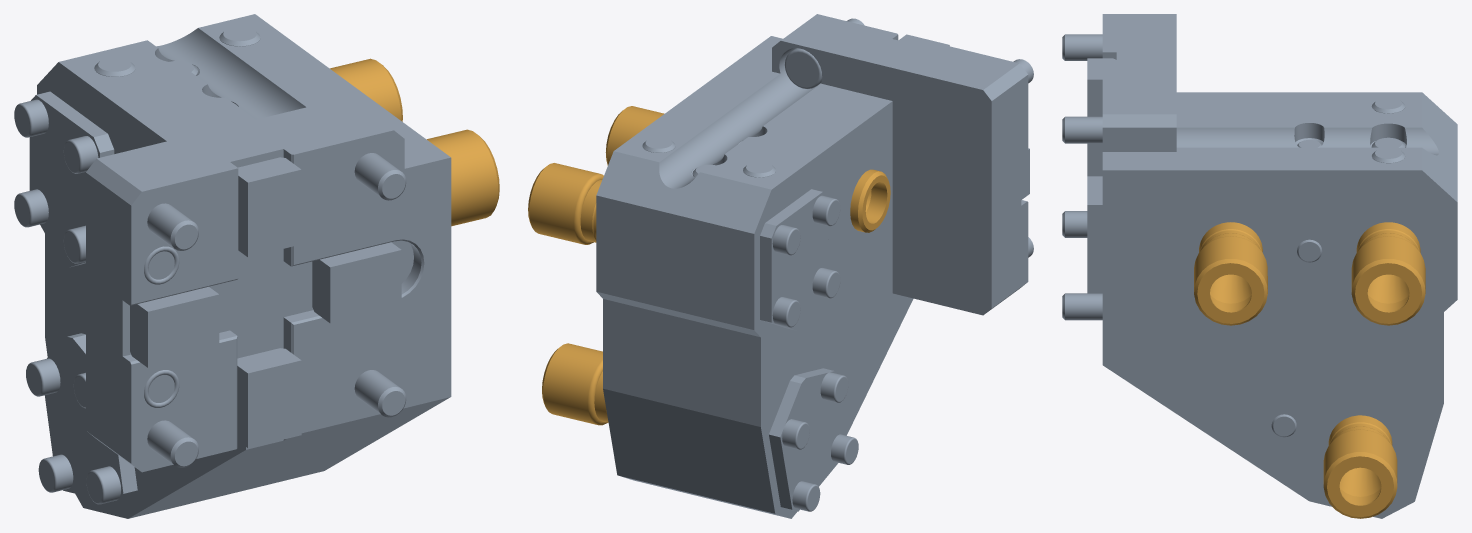
The model's file is 3X Spot-Drill-Tap-parts.obj.
The picture shows the model from 3 angles, left to right: view 1: azimuth 30°, elevation 25°; view 2: azimuth 150°, elevation 25°; view 3: azimuth 270°, elevation 25°; orthographic projection. The views are drawn at different scales.
Parts seen in each view (by area): view 1: Body1, Body1:3, Body1:1; view 2: Body1, Body1:1, Body1:2, Body1:3; view 3: Body1, Body1:1, Body1:2, Body1:3.
Part boxes in pixels (x1,y1,x2,y2): Body1: [14, 14, 451, 518]; Body1:3: [427, 129, 499, 226]; Body1:1: [330, 58, 402, 121]; Body1: [596, 14, 1033, 518]; Body1:1: [528, 163, 603, 244]; Body1:2: [542, 343, 608, 425]; Body1:3: [605, 106, 890, 232]; Body1: [1062, 14, 1457, 518]; Body1:1: [1351, 222, 1425, 325]; Body1:2: [1323, 415, 1397, 518]; Body1:3: [1194, 222, 1267, 325].
Size of the model in its own units: 11.93 by 12.54 by 11.75.
